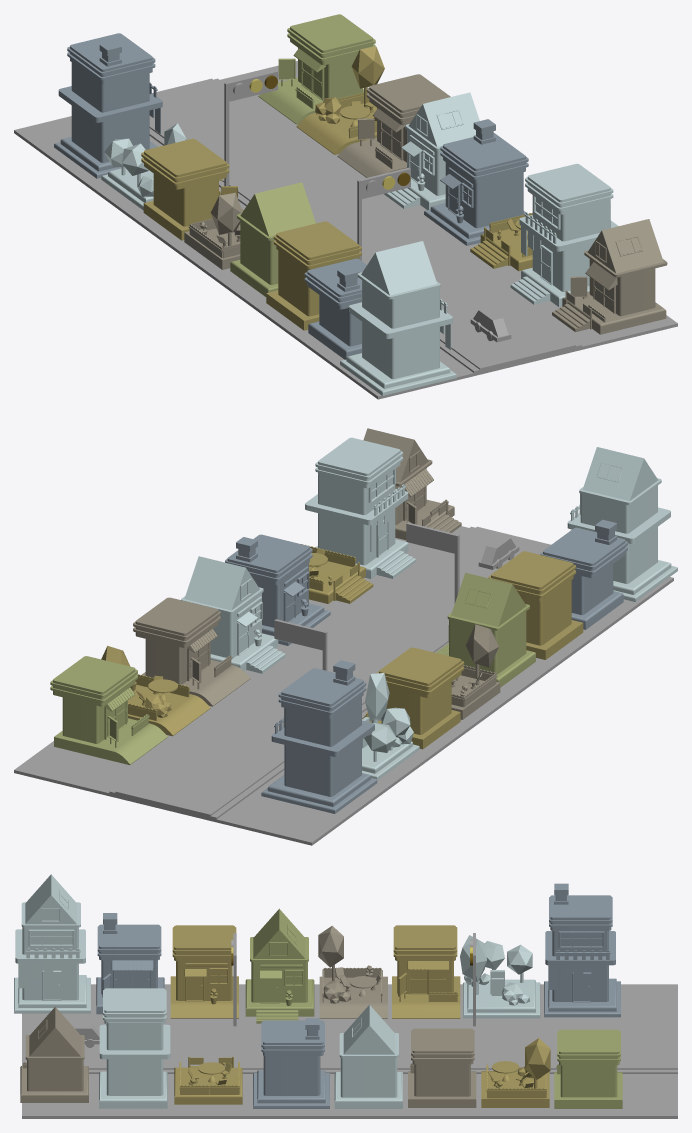
Rendered from SM-Block1.fbx.
The picture shows the model from 3 angles, top to bottom: view 1: azimuth 30°, elevation 25°; view 2: azimuth 150°, elevation 25°; view 3: azimuth 270°, elevation 25°; orthographic projection. The views are drawn at different scales.
Visible parts, largest first — view 1: pCube167; view 2: pCube167; view 3: pCube167.
Boxes of the visible parts, x1,y1,x2,y2 form: pCube167: (14,14,677,399); pCube167: (14,428,677,845); pCube167: (14,874,677,1118).
Size of the model in its own units: 1599 by 672 by 3403.
